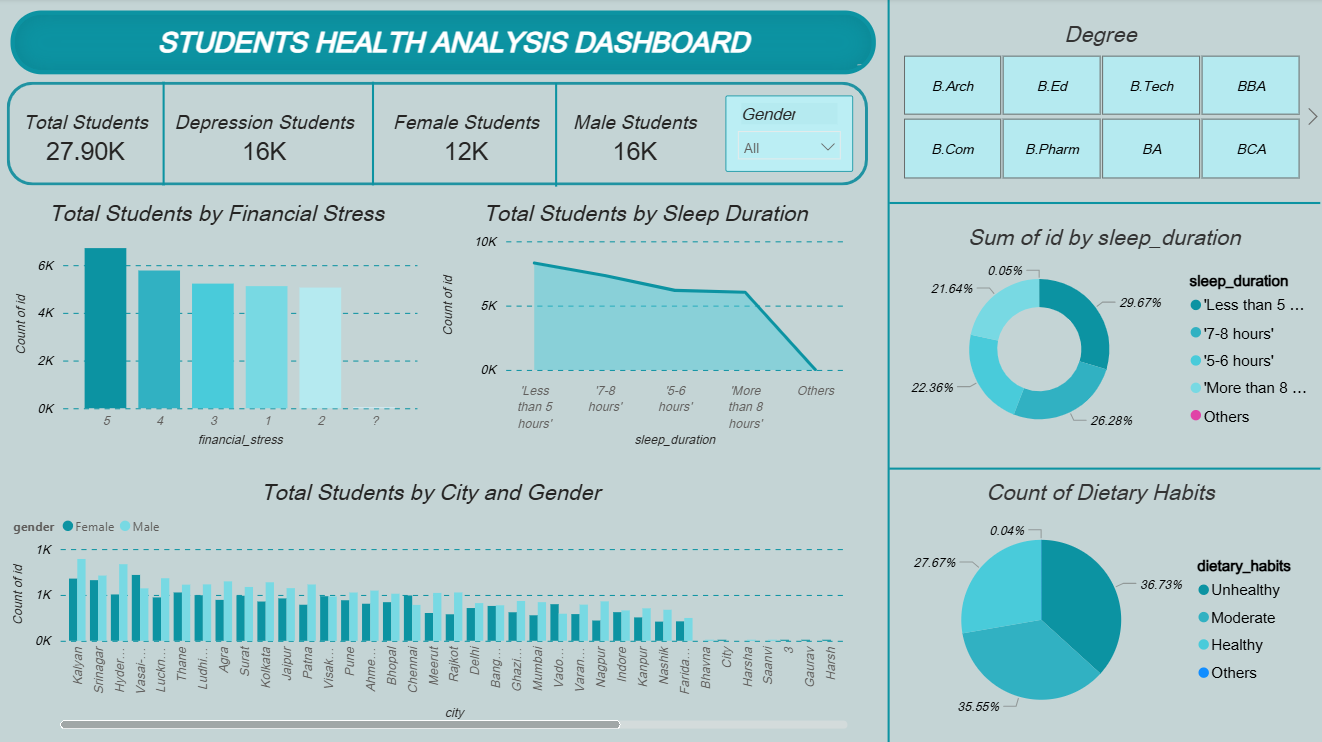

The page's visual inventory and layout, read from the dashboard file:
{"tool":"powerbi","page":{"name":"Page 1","canvas":[1280,720],"ordinal":0},"visuals":[{"type":"textbox","title":"STUDENTS HEALTH ANALYSIS DASHBOARD","box":[12.1,12.1,834.9,61.5],"z":0},{"type":"shape","box":[8.4,80.8,831.2,100.1],"z":1000},{"type":"card","title":"Female Students","fields":{"Values":["students.female_count"]},"box":[364.3,88.1,174.9,86.9],"z":2000},{"type":"card","title":"Depression Students","fields":{"Values":["students.depression"]},"box":[152,88.1,209.9,86.9],"z":3000},{"type":"card","title":"Total Students","fields":{"Values":["students.id"]},"box":[0,88.1,168.9,86.9],"z":4000},{"type":"card","title":"Male Students","fields":{"Values":["students.male_count"]},"box":[539.3,88.1,150.8,86.9],"z":5000},{"type":"pieChart","title":"Count of Dietary Habits","fields":{"Y":["students.id"],"Category":["students.dietary_habits"]},"box":[851.7,462.1,424.7,248.5],"z":6000},{"type":"donutChart","fields":{"Category":["students.sleep_duration"],"Y":["students.id"]},"box":[855.4,216,424.7,218.4],"z":7000},{"type":"slicer","title":"Degree","fields":{"Values":["students.degree"]},"box":[848.1,20.5,431.9,160.5],"z":9000},{"type":"shape","box":[860.2,181,416.2,33.8],"z":10000},{"type":"shape","box":[860.2,434.3,416.2,39.8],"z":11000},{"type":"columnChart","title":"Total Students by Financial Stress","fields":{"Y":["students.id"],"Category":["students.financial_stress"]},"box":[12.1,193,398.1,246.1],"z":12000},{"type":"areaChart","title":"Total Students by Sleep Duration","fields":{"Category":["students.sleep_duration"],"Y":["students.id"]},"box":[424.7,193,400.5,246.1],"z":13000},{"type":"clusteredColumnChart","title":"Total Students by City and Gender","fields":{"Category":["students.city"],"Y":["students.id"],"Series":["students.gender"]},"box":[9.7,462.1,815.6,248.5],"z":14000},{"type":"shape","box":[838.5,0,42.2,720.2],"z":15000},{"type":"shape","box":[137.5,80.8,44.6,100.1],"z":16000},{"type":"shape","box":[516.4,82,44.6,100.1],"z":17000},{"type":"shape","box":[345,80.8,33.8,100.1],"z":18000},{"type":"slicer","fields":{"Values":["students.gender"]},"box":[702.1,94.1,123.1,73.6],"z":19000}]}

Visuals, with their boxes in screenshot pixels (x1, y1, x2, y2), scaled from the page's 1280x720 canvas onto the 1322x742 screenshot:
"STUDENTS HEALTH ANALYSIS DASHBOARD" textbox: 12/12/875/76
shape: 9/83/867/186
"Female Students" card: 376/91/557/180
"Depression Students" card: 157/91/374/180
"Total Students" card: 0/91/174/180
"Male Students" card: 557/91/713/180
"Count of Dietary Habits" pieChart: 880/476/1318/732
donutChart - students.sleep_duration x students.id: 883/223/1321/448
"Degree" slicer: 876/21/1321/187
shape: 888/187/1318/221
shape: 888/448/1318/489
"Total Students by Financial Stress" columnChart: 12/199/424/453
"Total Students by Sleep Duration" areaChart: 439/199/852/453
"Total Students by City and Gender" clusteredColumnChart: 10/476/852/732
shape: 866/0/910/741
shape: 142/83/188/186
shape: 533/85/579/188
shape: 356/83/391/186
slicer - students.gender: 725/97/852/173
